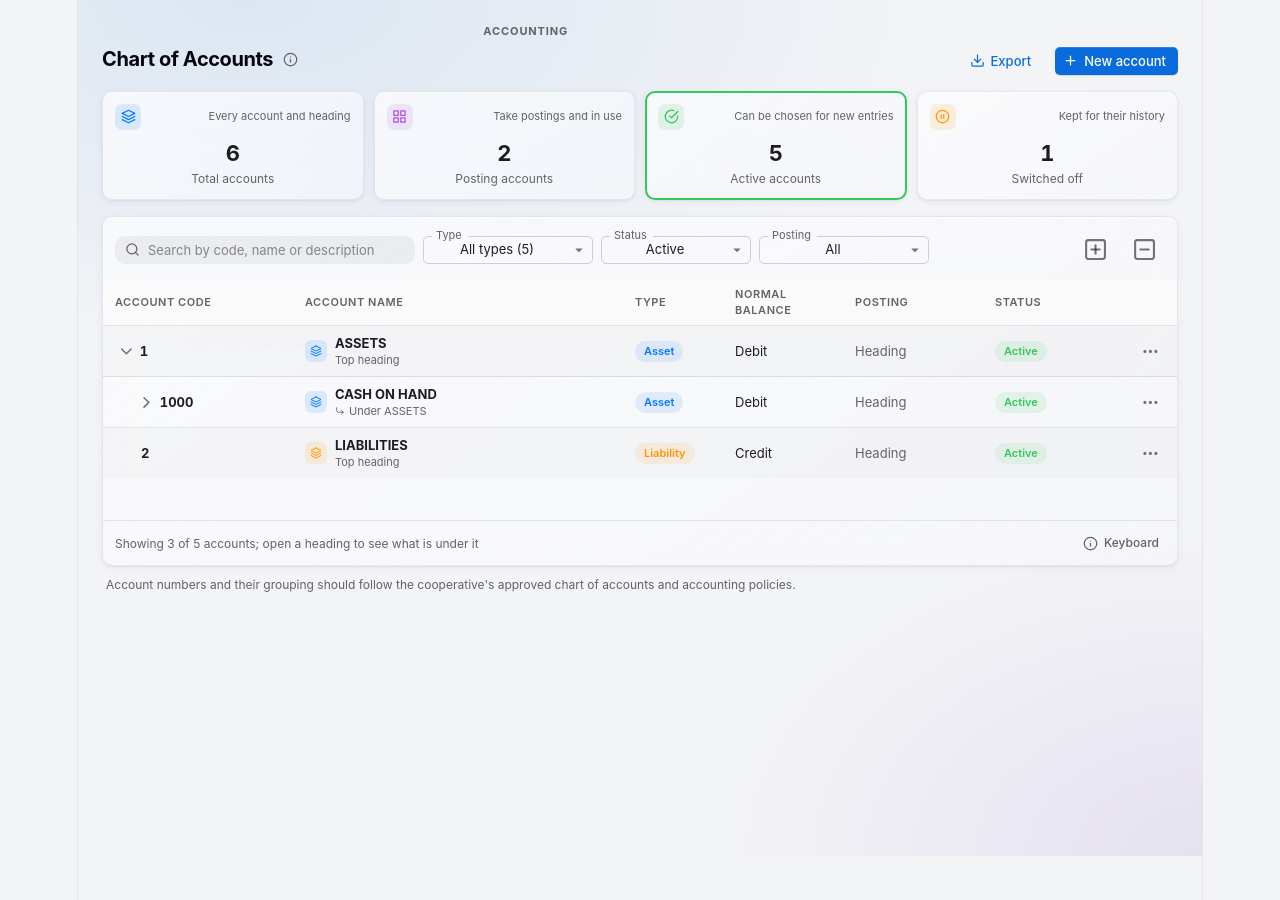
Test: Chart of Accounts › shows the summary cards and the hierarchy with type, normal balance, posting and status
Expected: the button "Every account and heading 6 Total accounts" is shown, [102,91,364,200]
Expected: the button "Kept for their history 1 Switched off" is shown, [916,91,1178,200]
Click the button named "Expand" at {"x": 146, "y": 402}, box [135,391,158,414]
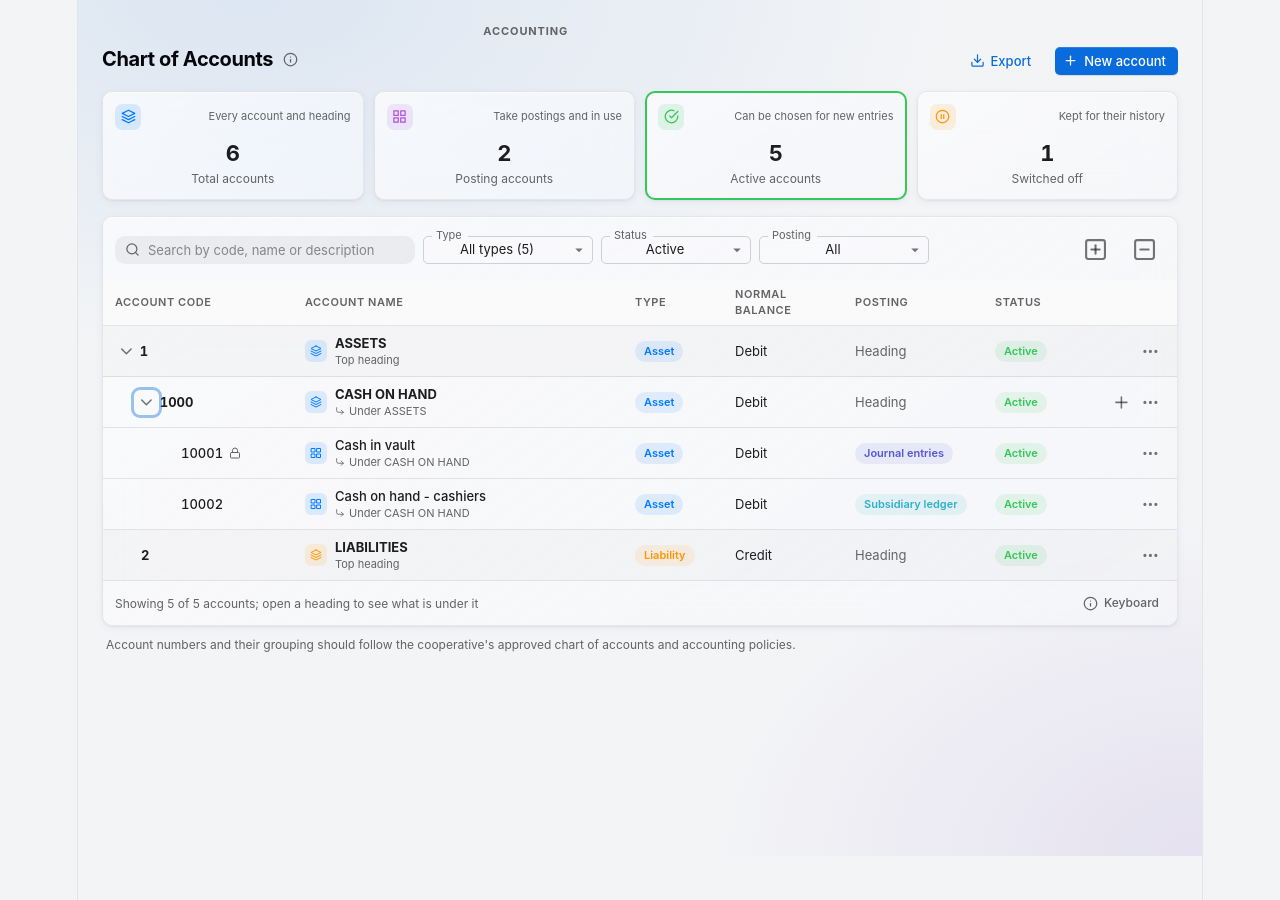
Expected: the text "Cash in vault" shows "Asset", [644,446,674,460]
Expected: the text "Cash in vault" shows "Debit", [735,445,767,461]
Expected: the text "Cash in vault" shows "Journal entries", [864,446,944,460]
Click the button "Kept for their history 1 Switched off" at {"x": 1047, "y": 146}, box [916,91,1178,200]
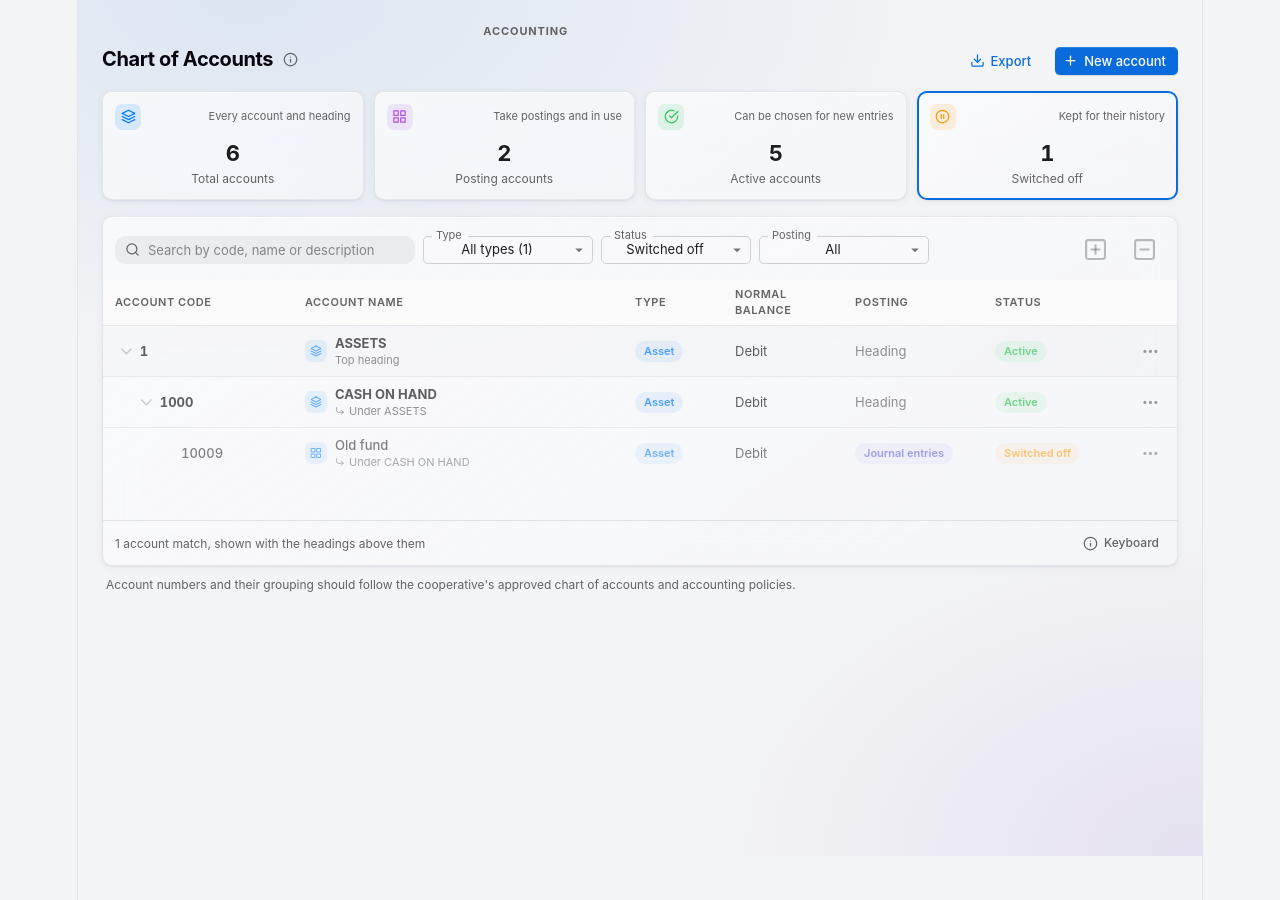
Expected: the button "Old fund" is shown, [335,437,388,455]
